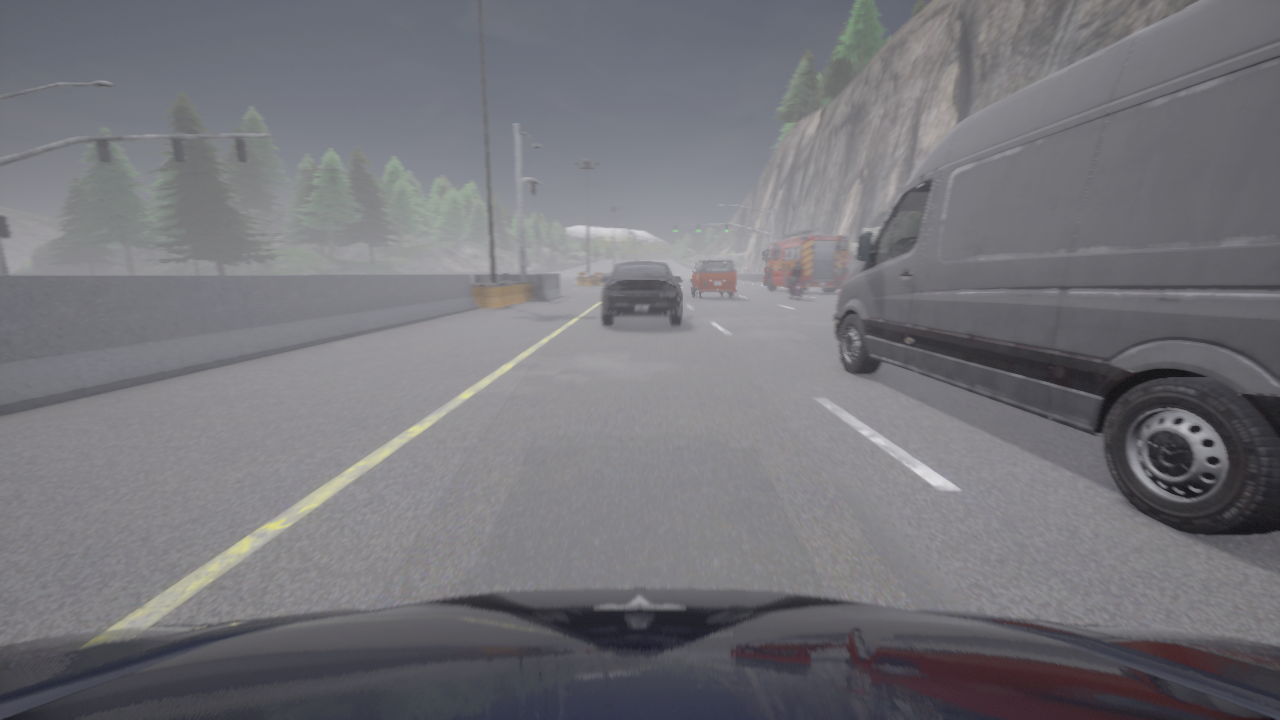cyclist: (834, 0, 1279, 534), (0, 588, 1279, 719), (763, 227, 848, 292), (601, 261, 682, 324), (690, 257, 735, 298), (789, 278, 801, 299)
